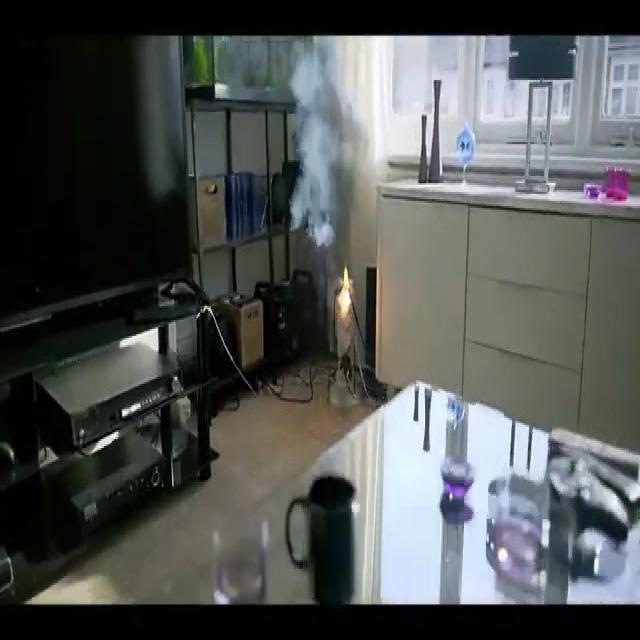fire: (335, 263, 358, 323)
smoke: (286, 36, 364, 252)
